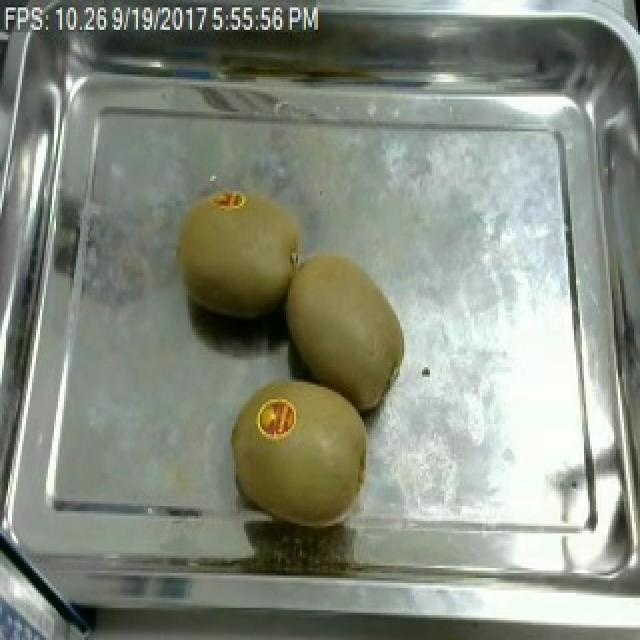Fruit: (220, 375, 378, 538), (274, 246, 414, 417), (166, 179, 316, 325)
